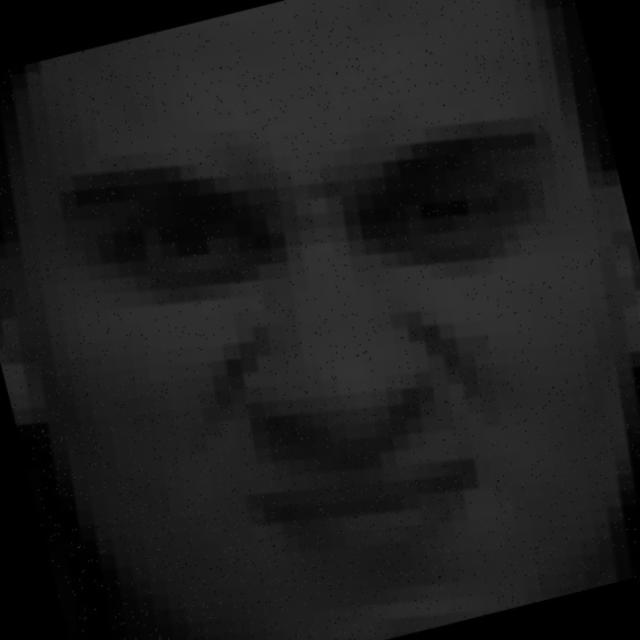Disgust: (50, 75, 640, 581)
